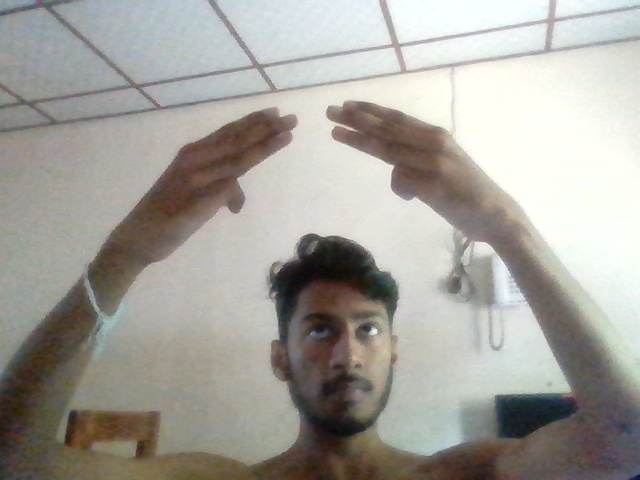ThankYou: (109, 99, 509, 257)
